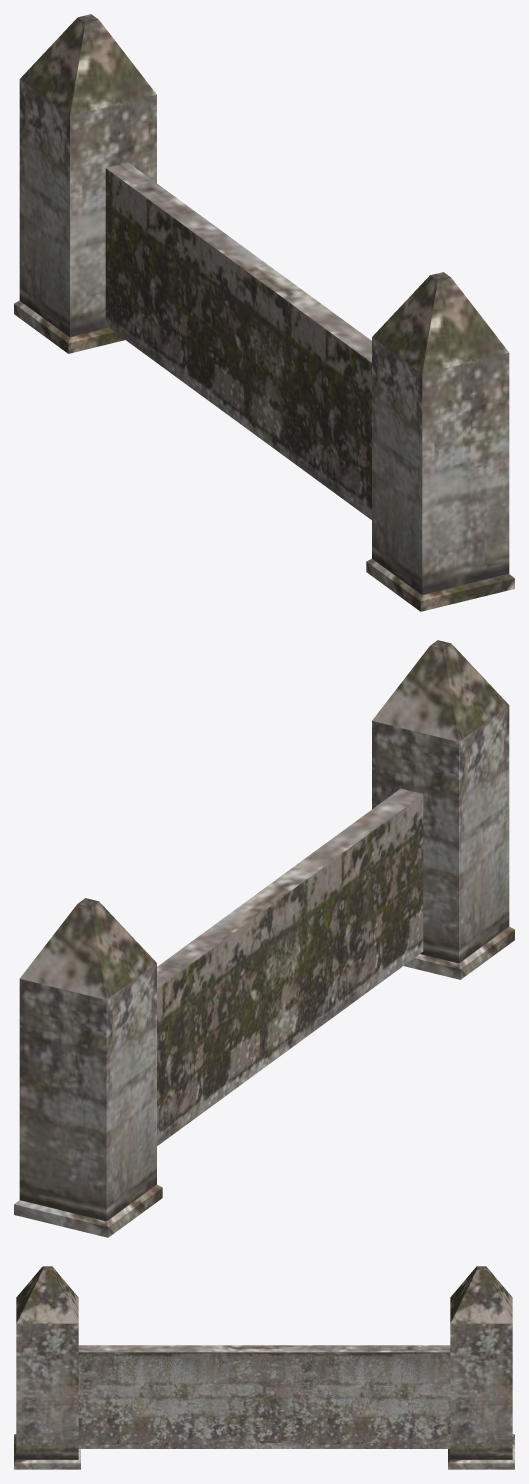
File: Wall.obj
3 renders of one model, top to bottom at view 1: azimuth 30°, elevation 25°; view 2: azimuth 150°, elevation 25°; view 3: azimuth 270°, elevation 25°, orthographic. The views are drawn at different scales.
Visible parts, largest first — view 1: Cube.001; view 2: Cube.001; view 3: Cube.001.
Boxes of the visible parts, box(x1,y1,x2,y2) form: Cube.001: box(14, 14, 514, 611); Cube.001: box(14, 640, 514, 1237); Cube.001: box(14, 1266, 514, 1469).
Bounding box in the file's own units: 2.51 × 7.72 × 18.73.
